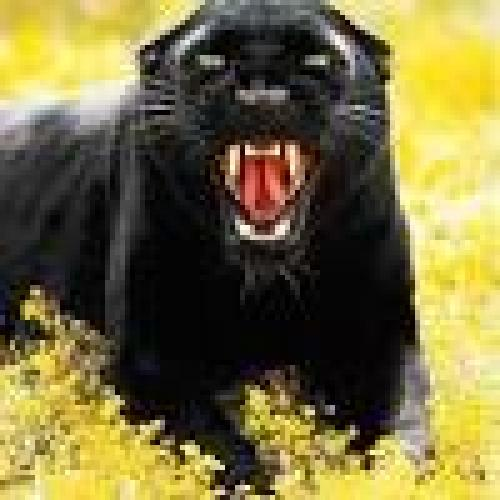panther-endangered: (12, 6, 434, 489)
